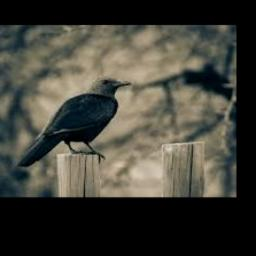Crow: (15, 76, 131, 167)
